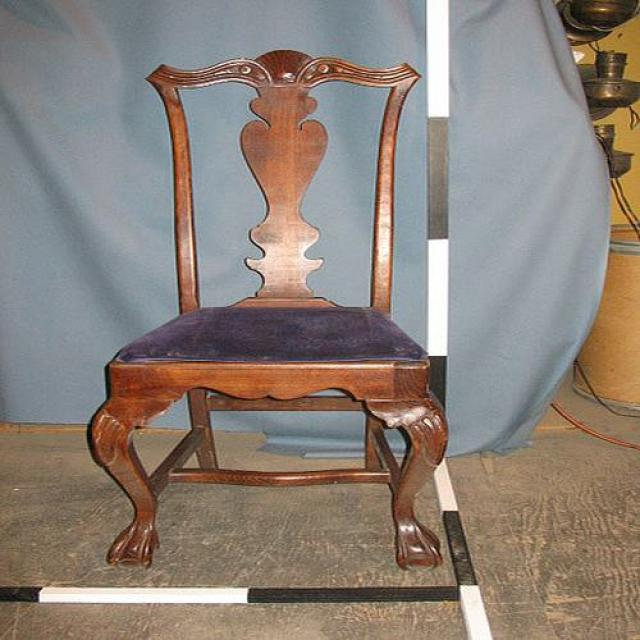chair: (86, 50, 448, 571)
